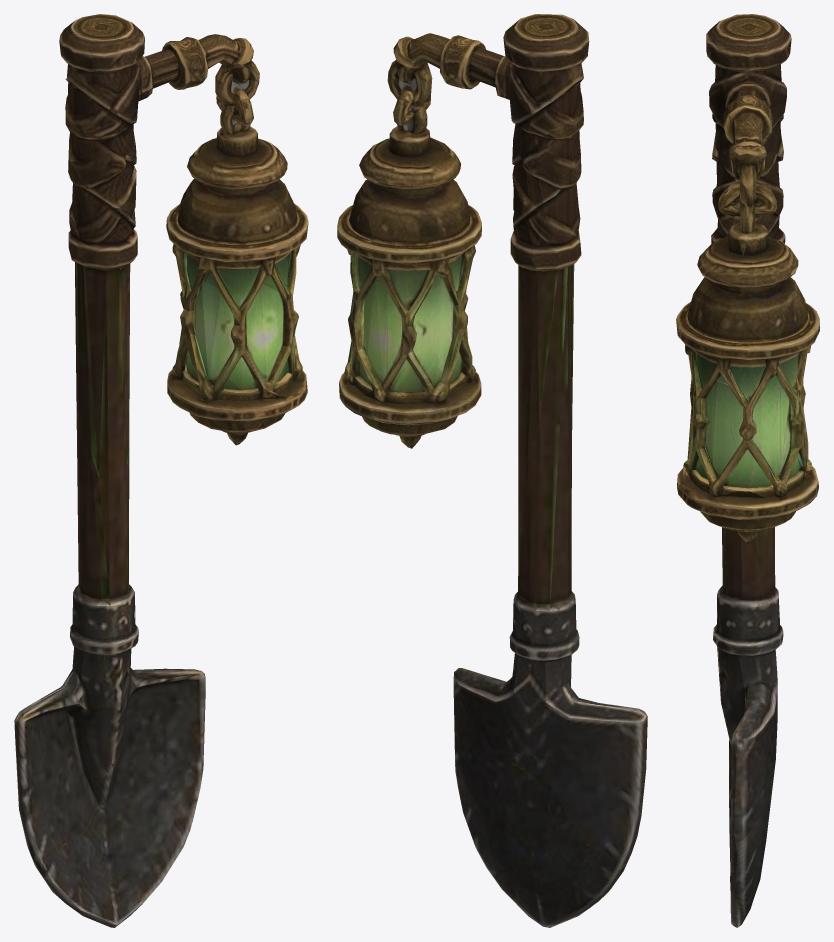
File: lantern_shovel.glb
The picture shows the model from 3 angles, left to right: view 1: azimuth 30°, elevation 25°; view 2: azimuth 150°, elevation 25°; view 3: azimuth 270°, elevation 25°; orthographic projection.
Size of the model in its own units: 0.7266 by 2.15 by 0.3134.
1 material, 1 textured.
